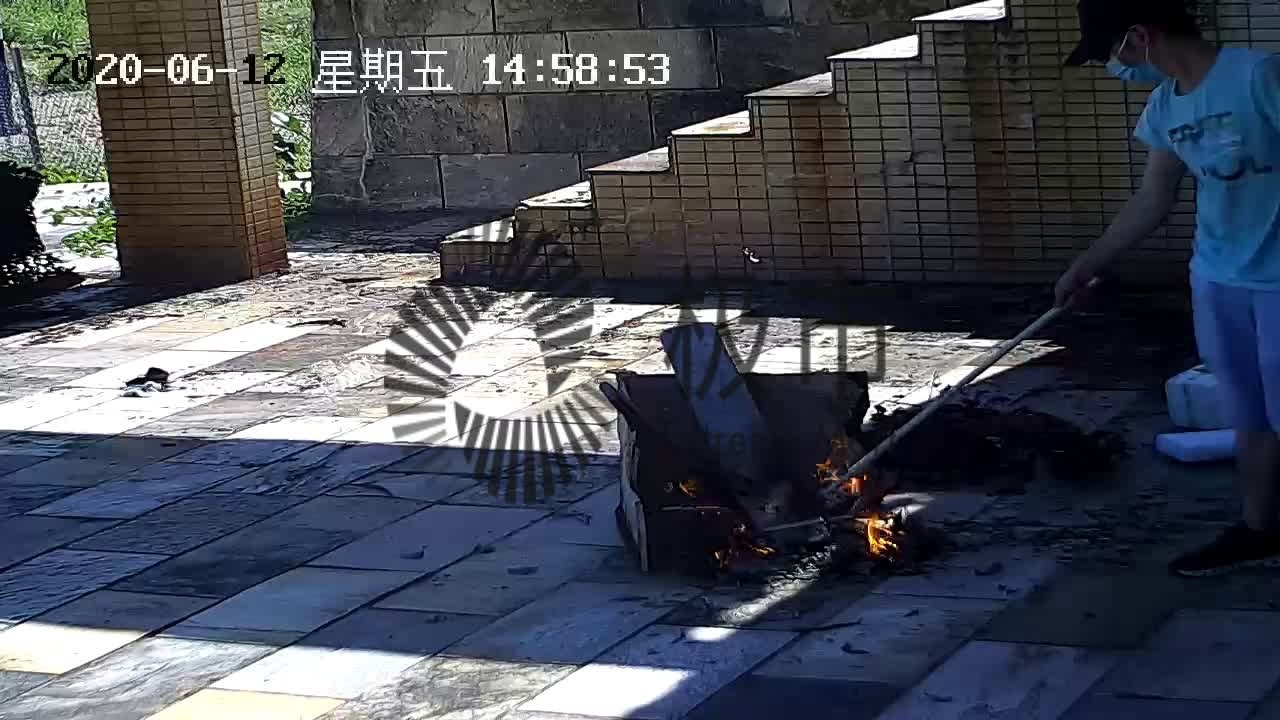fire: (802, 447, 902, 565), (662, 460, 767, 565)
